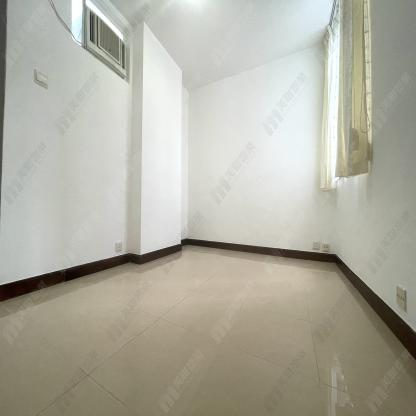AC: (85, 5, 127, 80)
